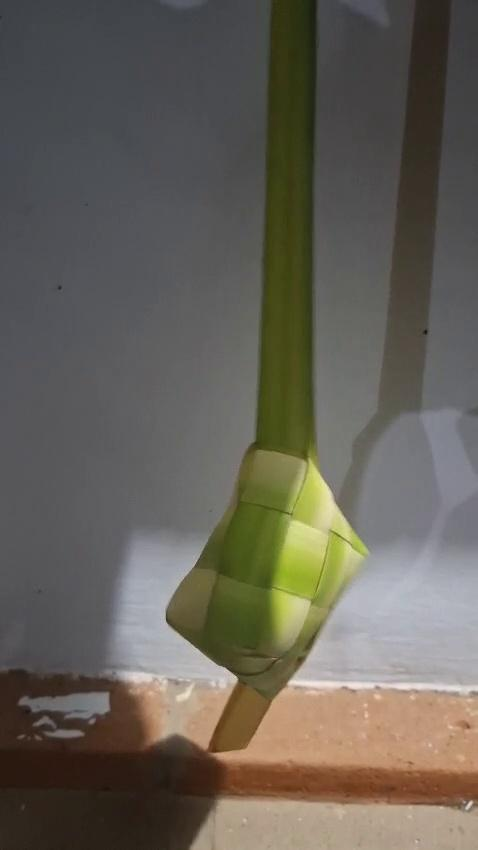Tipat Nasi: (153, 434, 378, 745)
